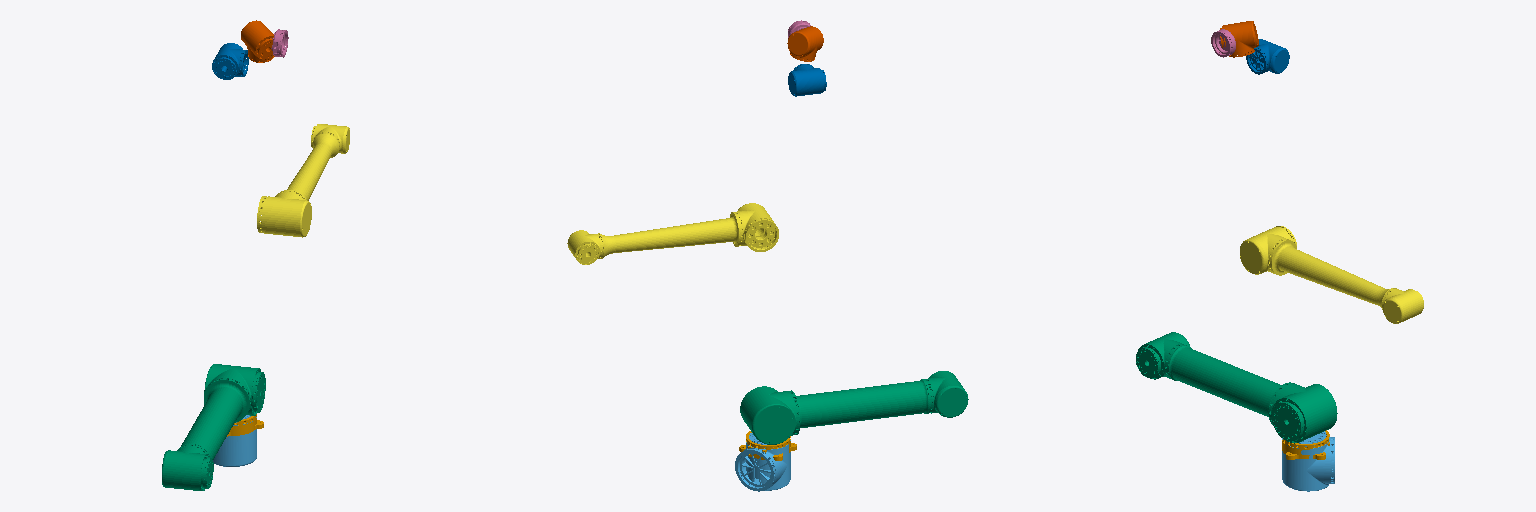
The robot description file, URDF, robot "erobo10":
<?xml version="1.0" encoding="utf-8"?>
<!-- This URDF was automatically created by SolidWorks to URDF Exporter!
     Path style adjusted to match erobo5 (relative meshes path)
-->
<robot name="erobo10">

  <link name="base_link">
    <inertial>
      <origin xyz="0.000741403578509273 -0.00126213521580097 0.0294010754246186" rpy="0 0 0" />
      <mass value="1.24881775154891" />
      <inertia
        ixx="0.00276931779267608"
        ixy="-1.56338468148531E-06"
        ixz="-6.97141207489869E-06"
        iyy="0.00265800372799781"
        iyz="3.97124322979498E-06"
        izz="0.00497255535916753" />
    </inertial>
    <visual>
      <origin xyz="0 0 0" rpy="0 0 0" />
      <geometry>
        <mesh filename="meshes/erobo10/base_link.STL" />
      </geometry>
    </visual>
    <collision>
      <origin xyz="0 0 0" rpy="0 0 0" />
      <geometry>
        <mesh filename="meshes/erobo10/base_link.STL" />
      </geometry>
    </collision>
  </link>

  <link name="link1">
    <inertial>
      <origin xyz="0.0314356438126466 -0.03001955398813 0.0930576587379895" rpy="0 0 0" />
      <mass value="1.06669531583321" />
      <inertia
        ixx="0.00316489407810111"
        ixy="-9.94250621466877E-05"
        ixz="4.04604005413626E-05"
        iyy="0.00315878103696892"
        iyz="-3.92773483951643E-05"
        izz="0.00406953671217103" />
    </inertial>
    <visual>
      <origin xyz="0 0 0" rpy="0 0 0" />
      <geometry>
        <mesh filename="meshes/erobo10/link1.STL" />
      </geometry>
    </visual>
    <collision>
      <origin xyz="0 0 0" rpy="0 0 0" />
      <geometry>
        <mesh filename="meshes/erobo10/link1.STL" />
      </geometry>
    </collision>
  </link>

  <joint name="joint1" type="revolute">
    <origin xyz="0 0 0.0365" rpy="0 0 0" />
    <parent link="base_link"/>
    <child link="link1"/>
    <axis xyz="0 0 1"/>
    <limit lower="-3.14" upper="3.14" effort="140" velocity="1.57"/>
  </joint>

  <link name="link2">
    <inertial>
      <origin xyz="-0.301804502720753 -0.00372160861590613 0.0888834219208238" rpy="0 0 0" />
      <mass value="4.22208922661742" />
      <inertia
        ixx="0.0110804783234271"
        ixy="-0.000713708396129478"
        ixz="-4.34066726567922E-05"
        iyy="0.0691293433799476"
        iyz="6.66002157666292E-07"
        izz="0.0705611638007343" />
    </inertial>
    <visual>
      <origin xyz="0 0 0" rpy="0 0 0" />
      <geometry>
        <mesh filename="meshes/erobo10/link2.STL" />
      </geometry>
    </visual>
    <collision>
      <origin xyz="0 0 0" rpy="0 0 0" />
      <geometry>
        <mesh filename="meshes/erobo10/link2.STL" />
      </geometry>
    </collision>
  </link>

  <joint name="joint2" type="revolute">
    <origin xyz="0.055298 -0.052862 0.0865" rpy="0.76289 1.5708 0" />
    <parent link="link1"/>
    <child link="link2"/>
    <axis xyz="0 0 1"/>
    <limit lower="-3.14" upper="3.14" effort="110" velocity="1.57"/>
  </joint>

  <link name="link3">
    <inertial>
      <origin xyz="0.219966745462597 -0.0520566261396442 0.0566955185053122" rpy="0 0 0" />
      <mass value="2.87326195907167" />
      <inertia
        ixx="0.00583424993831955"
        ixy="0.00923872436789387"
        ixz="1.92907183529569E-07"
        iyy="0.0427365353474649"
        iyz="1.18628829612412E-06"
        izz="0.0456079563948397" />
    </inertial>
    <visual>
      <origin xyz="0 0 0" rpy="0 0 0" />
      <geometry>
        <mesh filename="meshes/erobo10/link3.STL" />
      </geometry>
    </visual>
    <collision>
      <origin xyz="0 0 0" rpy="0 0 0" />
      <geometry>
        <mesh filename="meshes/erobo10/link3.STL" />
      </geometry>
    </collision>
  </link>

  <joint name="joint3" type="revolute">
    <origin xyz="-0.61195 -0.0074933 0.0142" rpy="-3.1416 0 -3.1416" />
    <parent link="link2"/>
    <child link="link3"/>
    <axis xyz="0 0 1"/>
    <limit lower="-3.14" upper="3.14" effort="110" velocity="1.57"/>
  </joint>

  <link name="link4">
    <inertial>
      <origin xyz="-0.000578504046253592 -0.000134771028033276 0.046707623090551" rpy="0 0 0" />
      <mass value="0.269874407453798" />
      <inertia
        ixx="0.000377296042707274"
        ixy="2.02245000335862E-05"
        ixz="-1.207717592292E-05"
        iyy="0.000304532093228751"
        iyz="-3.26691656085565E-06"
        izz="0.000282357383115441" />
    </inertial>
    <visual>
      <origin xyz="0 0 0" rpy="0 0 0" />
      <geometry>
        <mesh filename="meshes/erobo10/link4.STL" />
      </geometry>
    </visual>
    <collision>
      <origin xyz="0 0 0" rpy="0 0 0" />
      <geometry>
        <mesh filename="meshes/erobo10/link4.STL" />
      </geometry>
    </collision>
  </link>

  <joint name="joint4" type="revolute">
    <origin xyz="0.57416 -0.1358 0.015" rpy="3.1416 0 -3.1416" />
    <parent link="link3"/>
    <child link="link4"/>
    <axis xyz="0 0 -1"/>
    <limit lower="-3.14" upper="3.14" effort="107" velocity="1.57"/>
  </joint>

  <link name="link5">
    <inertial>
      <origin xyz="0.000412534201524845 -0.000427439267052049 0.0483075976512288" rpy="0 0 0" />
      <mass value="0.269873545648289" />
      <inertia
        ixx="0.0003414911357708"
        ixy="-4.16200921640242E-05"
        ixz="8.99923111575181E-06"
        iyy="0.000340336808388517"
        iyz="-8.69042565319032E-06"
        izz="0.000282355711575064" />
    </inertial>
    <visual>
      <origin xyz="0 0 0" rpy="0 0 0" />
      <geometry>
        <mesh filename="meshes/erobo10/link5.STL" />
      </geometry>
    </visual>
    <collision>
      <origin xyz="0 0 0" rpy="0 0 0" />
      <geometry>
        <mesh filename="meshes/erobo10/link5.STL" />
      </geometry>
    </collision>
  </link>

  <joint name="joint5" type="revolute">
    <origin xyz="-0.042092 -0.010977 0.0529" rpy="-1.5708 -0.82433 1.8259" />
    <parent link="link4"/>
    <child link="link5"/>
    <axis xyz="0 0 1"/>
    <limit lower="-3.14" upper="3.14" effort="87" velocity="1.57"/>
  </joint>

  <link name="link6">
    <inertial>
      <origin xyz="0.00137068748538827 0.000150727427756819 -0.0153767426487693" rpy="0 0 0" />
      <mass value="0.286742445140663" />
      <inertia
        ixx="0.000181010983979318"
        ixy="1.54069089266928E-06"
        ixz="-7.73609244969067E-07"
        iyy="0.000167166266751257"
        iyz="-8.49579128602502E-08"
        izz="0.000304357168066907" />
    </inertial>
    <visual>
      <origin xyz="0 0 0" rpy="0 0 0" />
      <geometry>
        <mesh filename="meshes/erobo10/link6.STL" />
      </geometry>
    </visual>
    <collision>
      <origin xyz="0 0 0" rpy="0 0 0" />
      <geometry>
        <mesh filename="meshes/erobo10/link6.STL" />
      </geometry>
    </collision>
  </link>

  <joint name="joint6" type="revolute">
    <origin xyz="0.05597 -0.055042 0.0545" rpy="-1.5708 1.308 -2.3478" />
    <parent link="link5"/>
    <child link="link6"/>
    <axis xyz="0 0 -1"/>
    <limit lower="-3.14" upper="3.124" effort="57" velocity="1.57"/>
  </joint>

</robot>

--- Facts derived from the render (not from the file) ---
Views: 3 orthographic renders of the robot side by side, from view 1: azimuth 30°, elevation 25°; view 2: azimuth 150°, elevation 25°; view 3: azimuth 270°, elevation 25°.
Robot: erobo10 — 7 links, 6 joints (6 revolute); root link base_link; default pose: every joint at zero.
Links seen in each view (by area): view 1: link2, link3, link1, link4, link5; view 2: link2, link3, link1, link4, link5; view 3: link2, link3, link1, link4, link5, base_link.
Link boxes in pixels (box(x1,y1,x2,y2)): link2: box(162, 364, 265, 490); link3: box(257, 124, 349, 237); link1: box(213, 415, 256, 466); link4: box(212, 43, 248, 79); link5: box(241, 20, 274, 62); link2: box(740, 371, 968, 444); link3: box(567, 203, 778, 264); link1: box(735, 433, 790, 491); link4: box(788, 64, 826, 96); link5: box(787, 26, 823, 61); link2: box(1136, 332, 1337, 443); link3: box(1240, 226, 1423, 323); link1: box(1282, 431, 1334, 491); link4: box(1246, 39, 1289, 74); link5: box(1220, 21, 1258, 57); base_link: box(1282, 430, 1329, 459).
Size in the robot's own frame: 1.1 by 0.8975 by 1.57 metres.
7 mesh visuals loaded from 7 distinct referenced files (7 binary STL).
